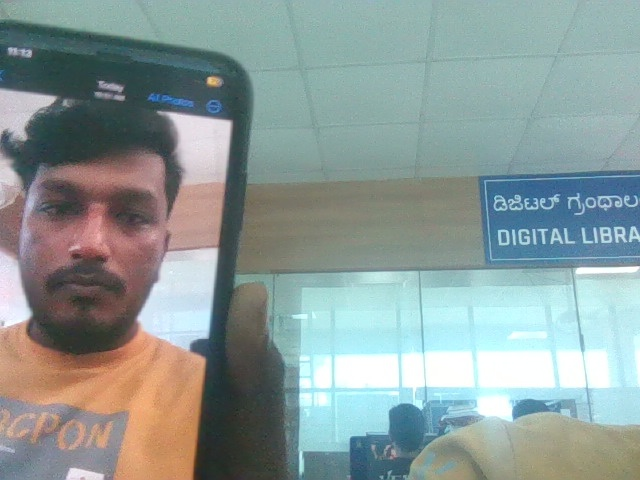fake: (0, 74, 196, 352)
